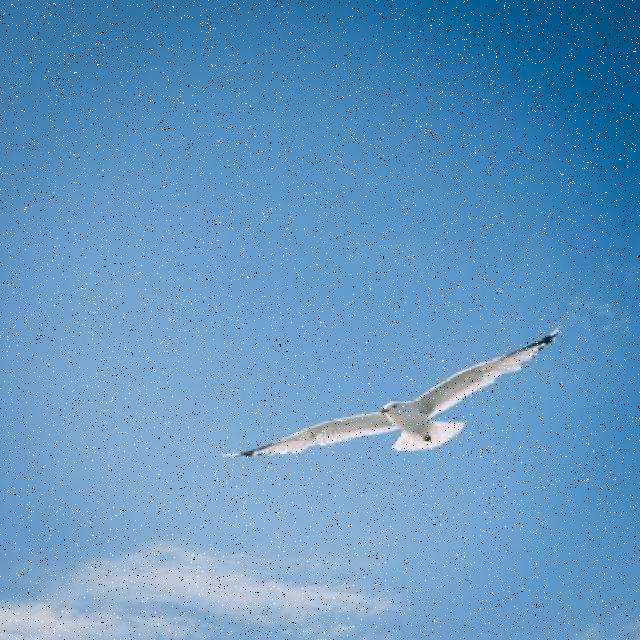bird: (223, 326, 563, 457)
